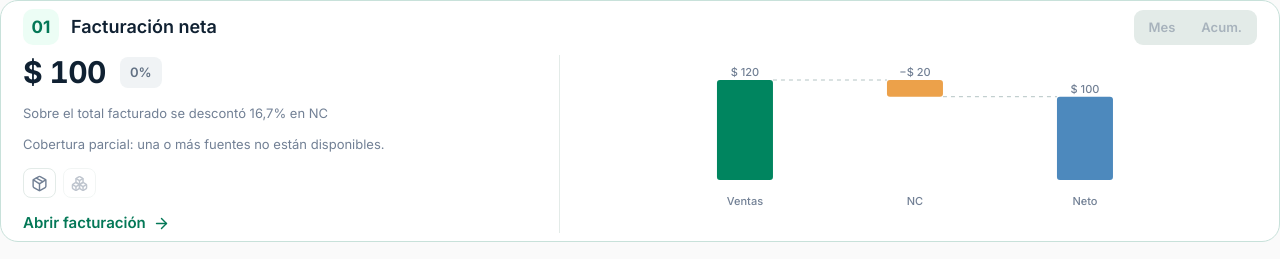
Test: conserva neto, NC y acumulado al filtrar la salida real del cargador en month
Click the button named "Filtrar ventas de repuestos". click: click(40, 183)
box: [23,168,56,198]
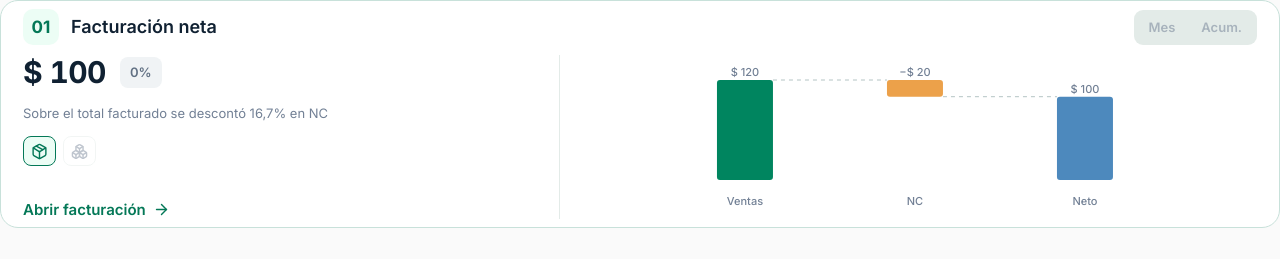
Expected: the button named "Filtrar ventas de repuestos" is pressed
Click the button named "Filtrar ventas de repuestos". click: click(40, 151)
box: [23,136,56,166]
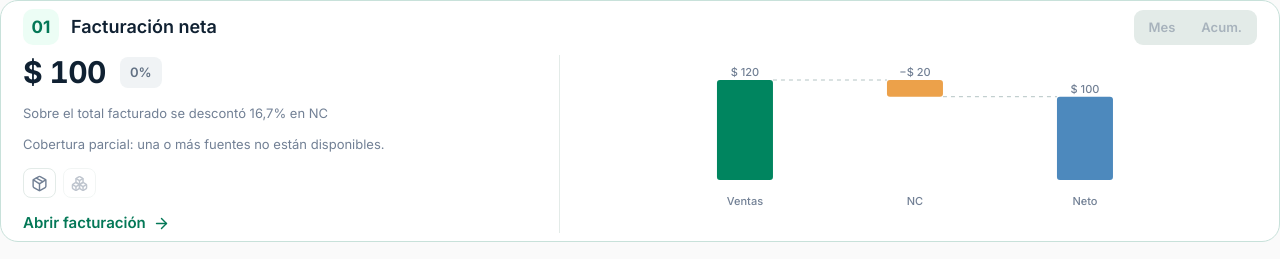
Expected: the button named "Filtrar ventas de repuestos" is not pressed, [23,168,56,198]
